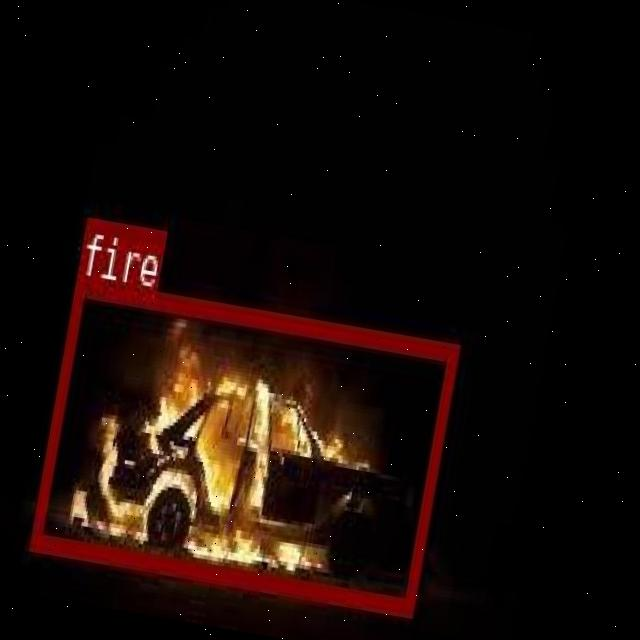fire: (29, 274, 458, 614)
